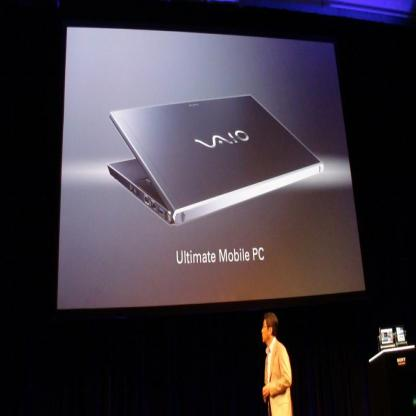board: (98, 77, 329, 236)
